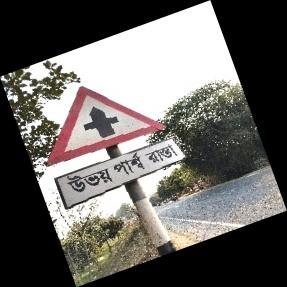Crossroad: (46, 85, 180, 213)
